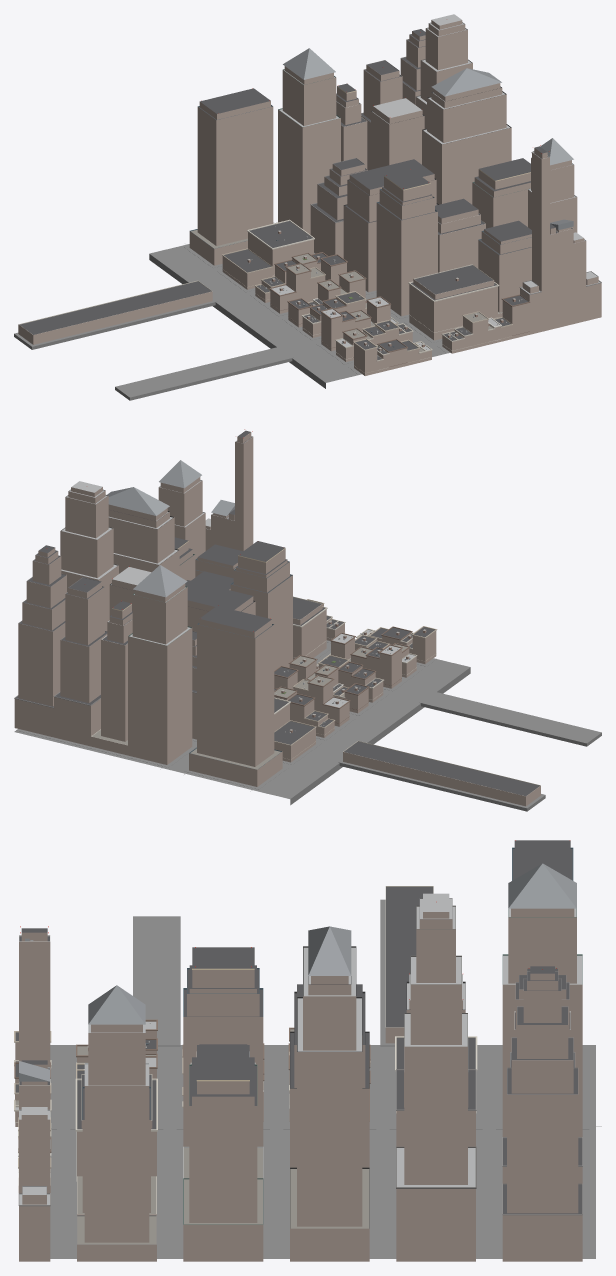
3 views of the same model, one above another, from view 1: azimuth 30°, elevation 25°; view 2: azimuth 150°, elevation 25°; view 3: azimuth 270°, elevation 25° (orthographic). The views are drawn at different scales.
Parts seen in each view (by area): view 1: t04_facade, t04_roof, t04_ground, t04_detail; view 2: t04_facade, t04_roof, t04_ground, t04_detail; view 3: t04_facade, t04_ground, t04_roof, t04_detail.
Part boxes in pixels (<box>): t04_facade: <box>18,20,601,375</box>; t04_roof: <box>19,14,600,360</box>; t04_ground: <box>14,222,450,400</box>; t04_detail: <box>19,22,601,373</box>; t04_facade: <box>14,432,540,806</box>; t04_roof: <box>16,429,539,796</box>; t04_ground: <box>14,639,601,811</box>; t04_detail: <box>14,436,540,795</box>; t04_facade: <box>15,908,582,1261</box>; t04_ground: <box>50,899,601,1258</box>; t04_roof: <box>15,840,582,1244</box>; t04_detail: <box>14,847,582,1244</box>.
Size of the model in its own units: 643 by 290 by 442.
